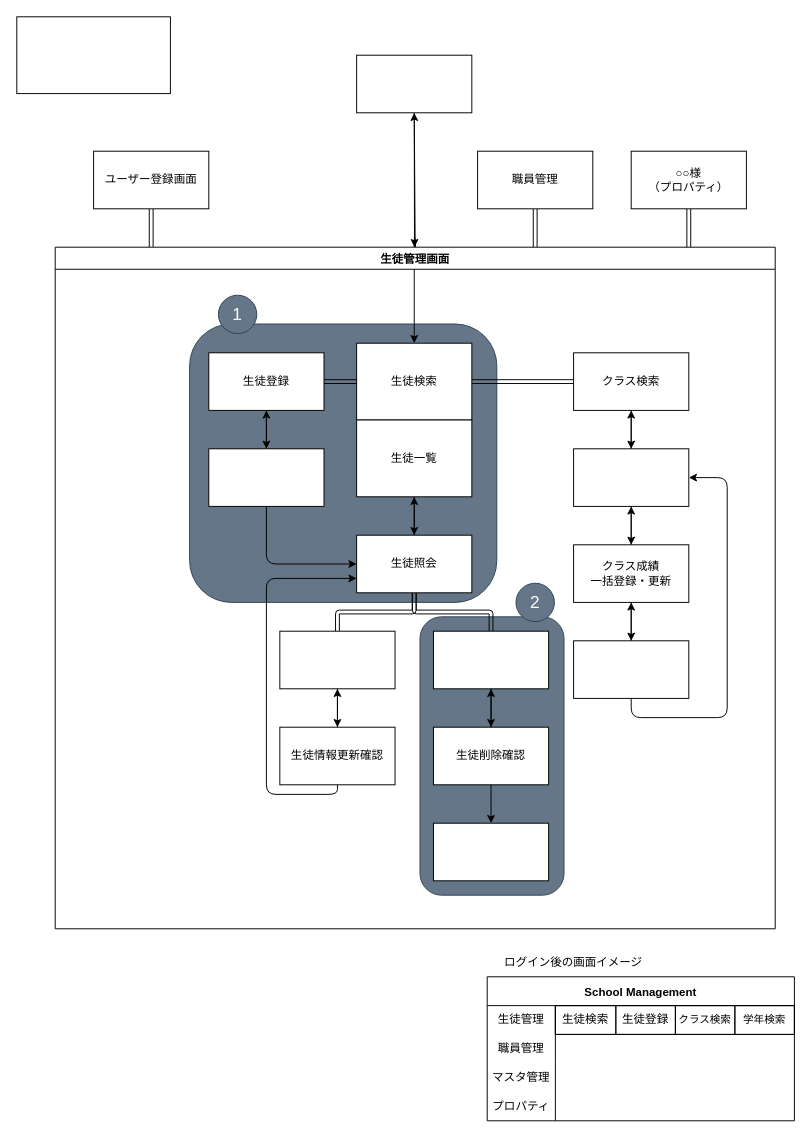
Some shapes in this 811 by 1138 pixel diagram are drawn without their labels. Here are the shapes that lost their labels. From the top down, the centre of each, then its label:
At [93,55]: "画面遷移図 生徒管理画面".
At [414,83]: "ログイン画面".
At [266,477]: "生徒登録確認".
At [631,477]: "クラス照会".
At [337,659]: "生徒情報更新".
At [490,659]: "生徒削除".
At [631,669]: "クラス成績 一括登録・更新確認".
At [490,851]: "生徒削除結果".
